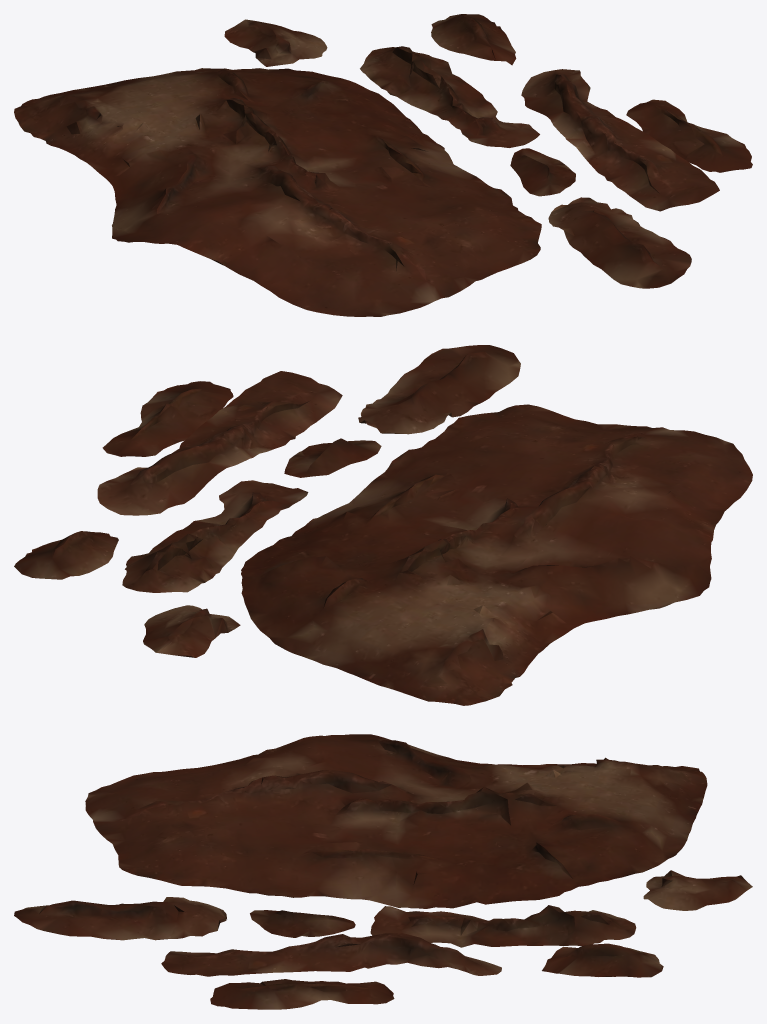
File: earth_roots_b.glb
3 renders of one model, top to bottom at view 1: azimuth 30°, elevation 25°; view 2: azimuth 150°, elevation 25°; view 3: azimuth 270°, elevation 25°, orthographic. The views are drawn at different scales.
Visible parts, largest first — view 1: earth_roots_b; view 2: earth_roots_b; view 3: earth_roots_b.
Boxes of the visible parts, bbox=[...] form: earth_roots_b: bbox=[14, 14, 752, 316]; earth_roots_b: bbox=[14, 345, 752, 705]; earth_roots_b: bbox=[14, 734, 752, 1009].
Bounding box in the file's own units: 2.38 × 0.1968 × 2.71.
1 material, 1 textured.
